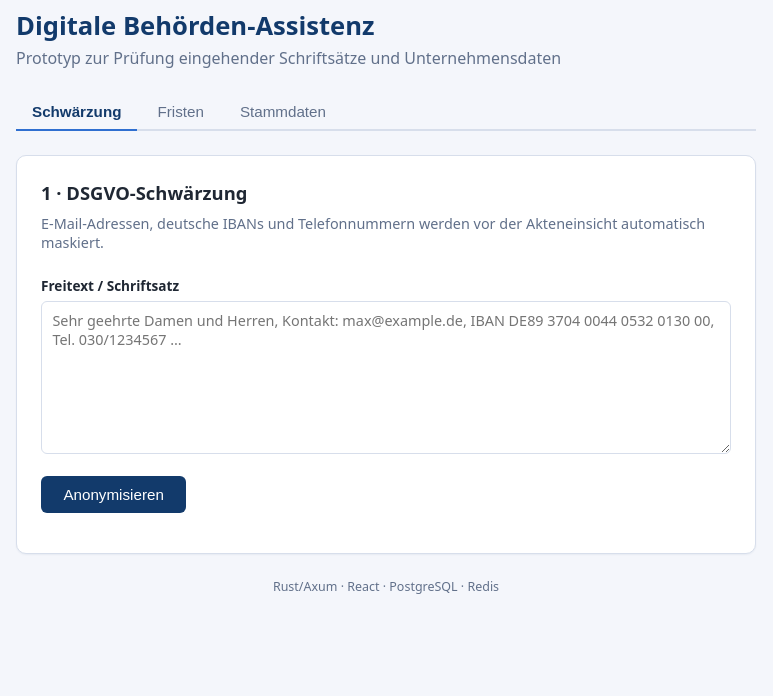
Test: App › switches between the three tabs
Click the tab "Fristen" at (181, 112), box [142,93,220,131]
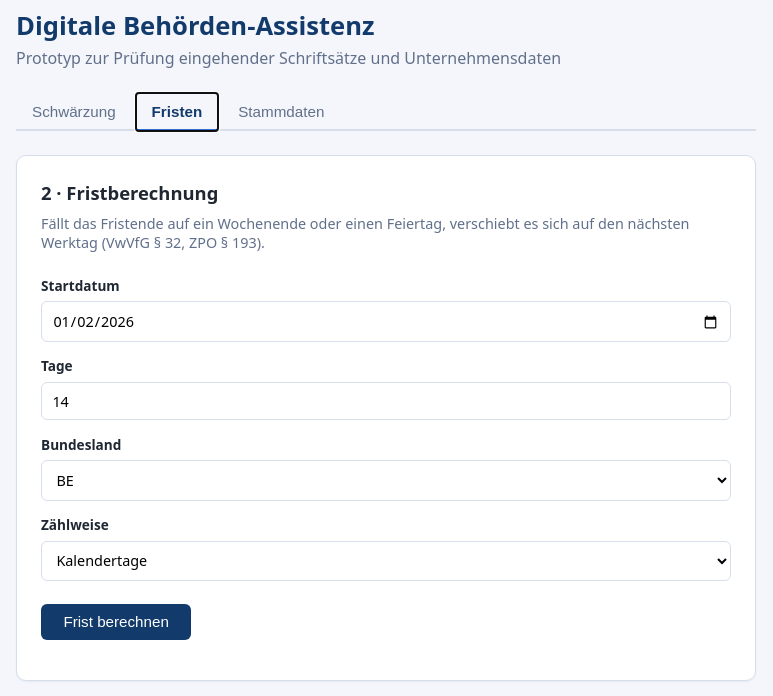
expect the heading "2 · Fristberechnung" is shown: met, box [41,180,218,205]
Click the tab "Stammdaten" at (281, 112), box [222,93,340,131]
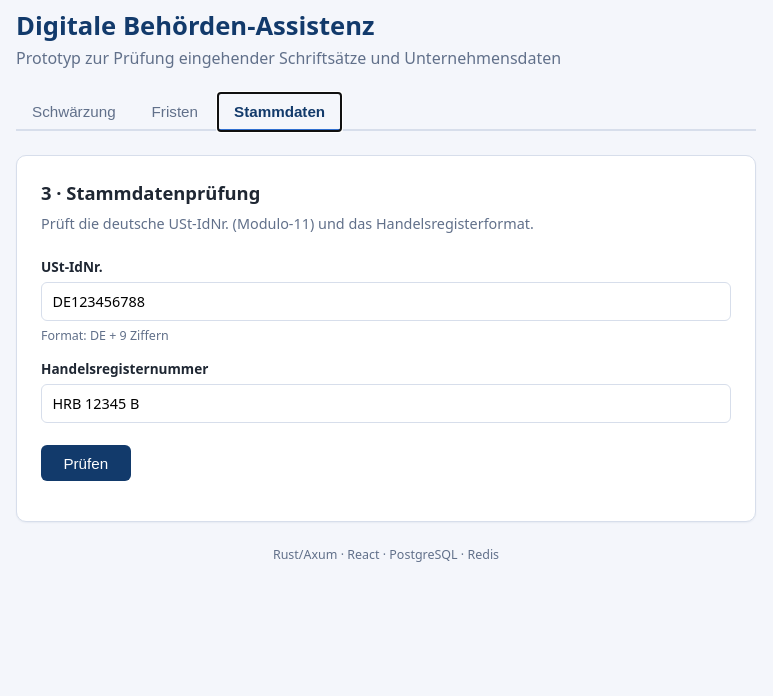
expect the heading "3 · Stammdatenprüfung" is shown: met, box [41,180,260,205]
